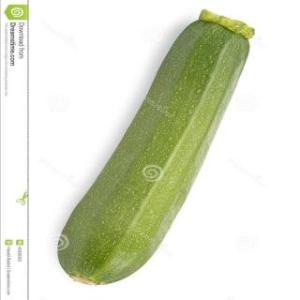zucchini: (70, 2, 236, 298)
